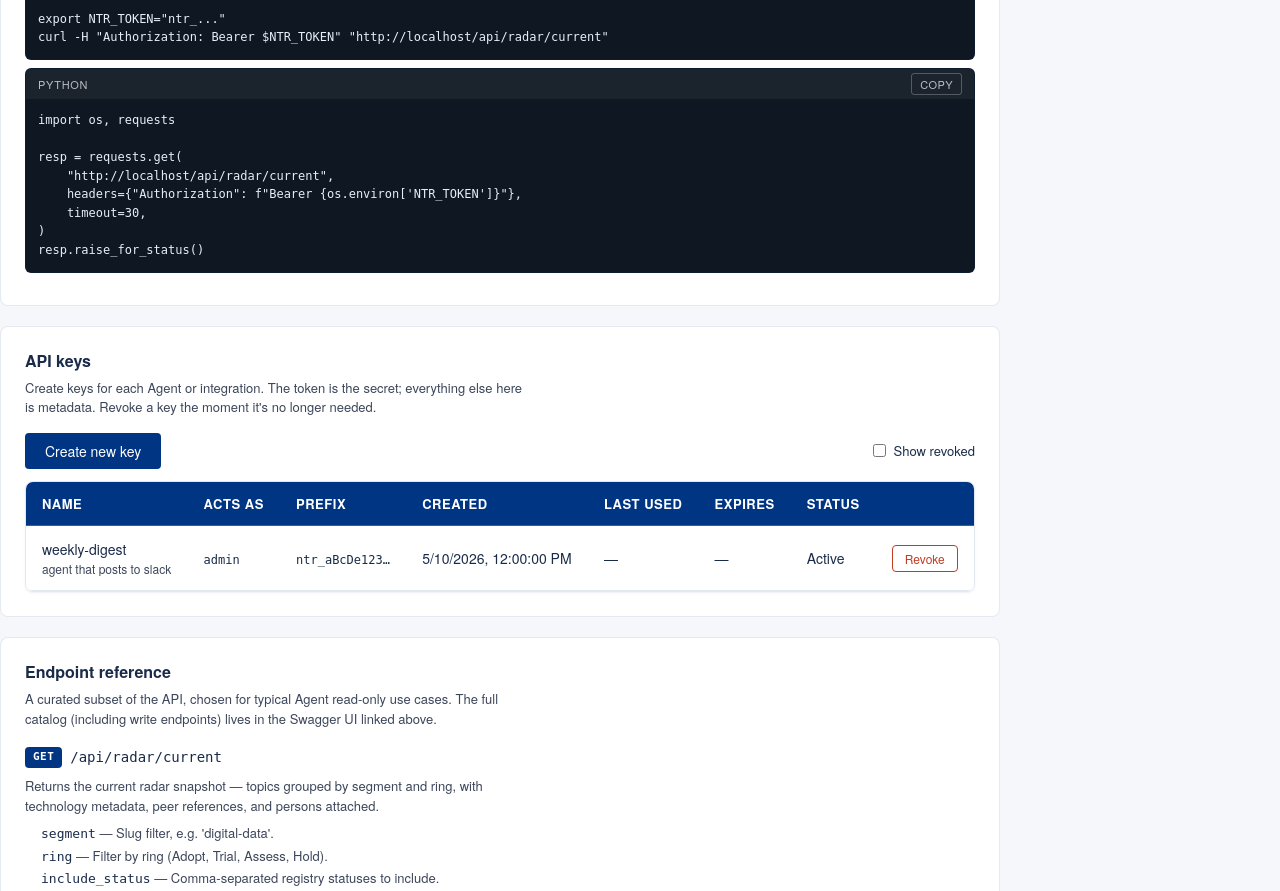
Test: ApiPage › shows the plaintext token once after create and clears it on close
(page scrolled)
Expected: the text "weekly-digest" is shown, [42, 539, 126, 559]
Step 1. Click the button "Create new key" → (93, 451), box [25, 433, 161, 469]
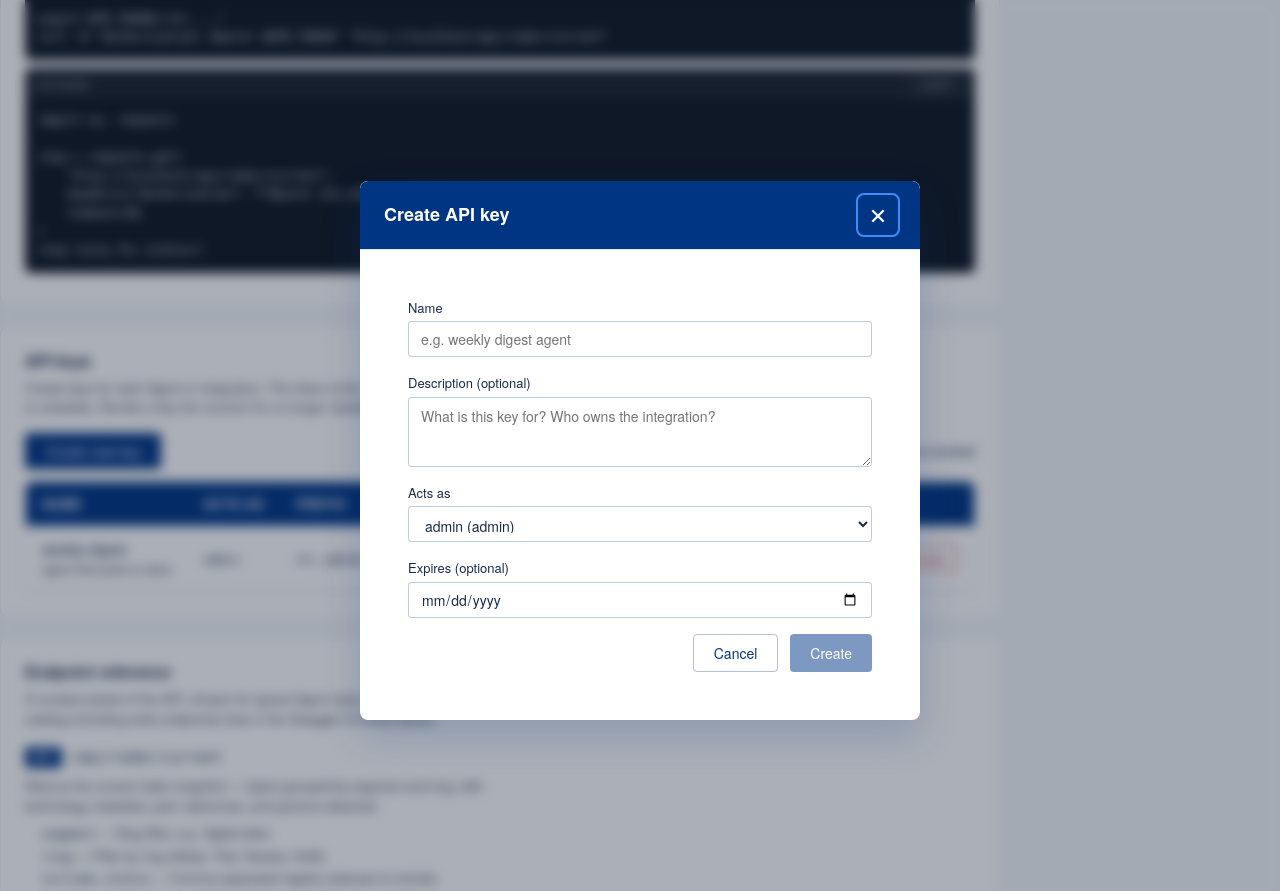
Step 2. Type "fresh-key" into the field labelled "Name" → (640, 339), box [408, 321, 872, 357]
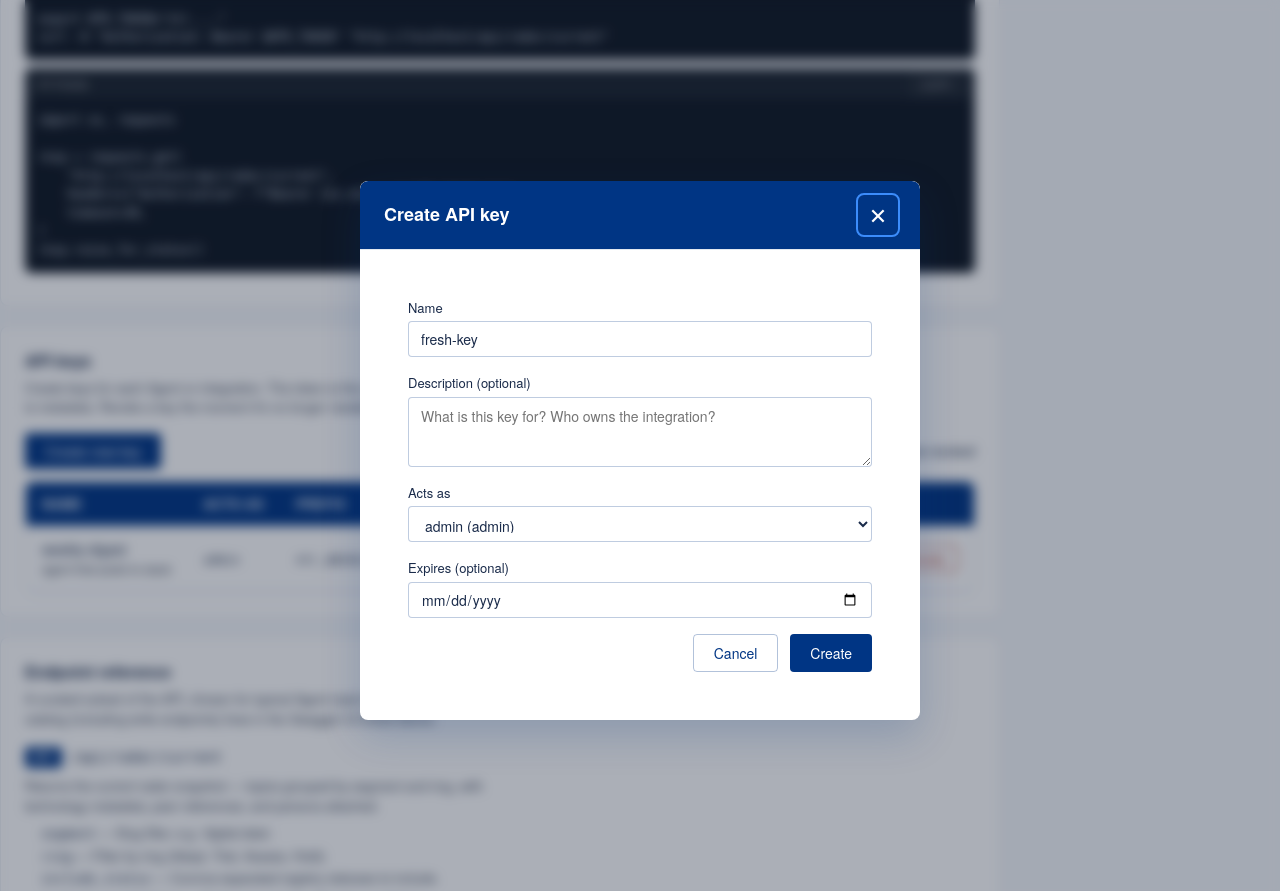
Step 3. Click the button "Create" → (831, 652), box [790, 634, 872, 672]
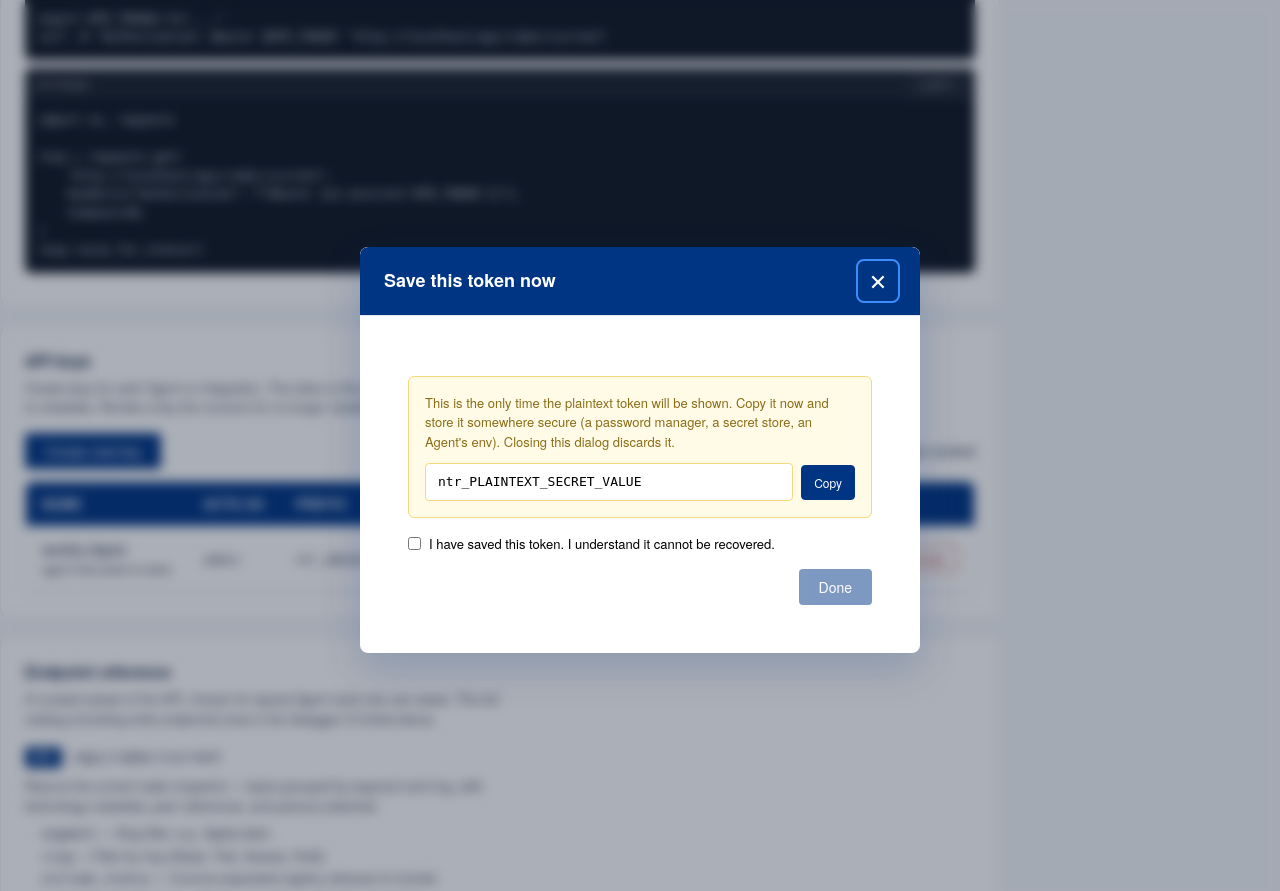
Expected: the heading "Save this token now" is shown, [384, 267, 556, 293]
Expected: the text "ntr_PLAINTEXT_SECRET_VALUE" is shown, [425, 463, 793, 501]
Step 4. Click the checkbox labelled "I have saved this token" → (414, 544), box [408, 537, 421, 550]
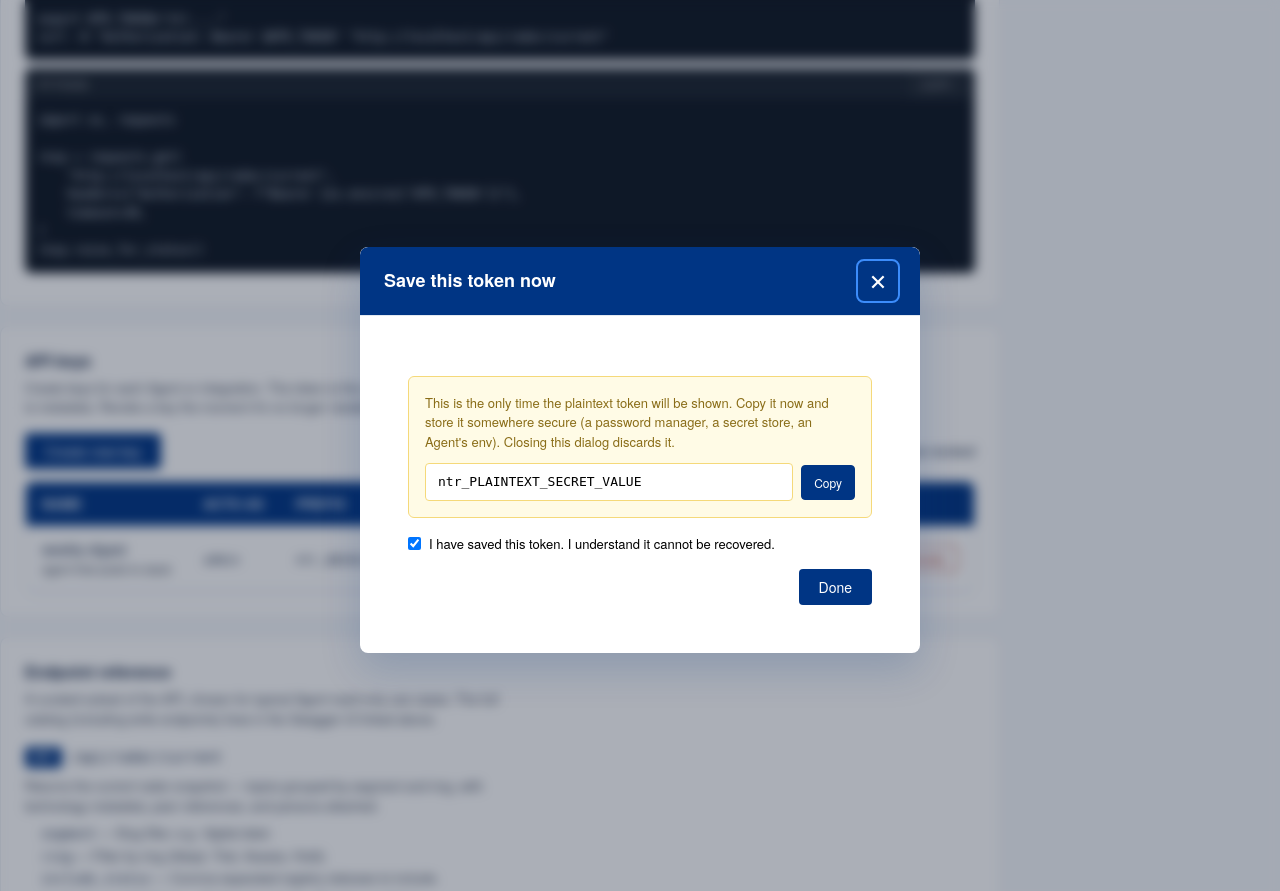
Step 5. Click the button "Done" → (835, 587), box [798, 569, 872, 605]
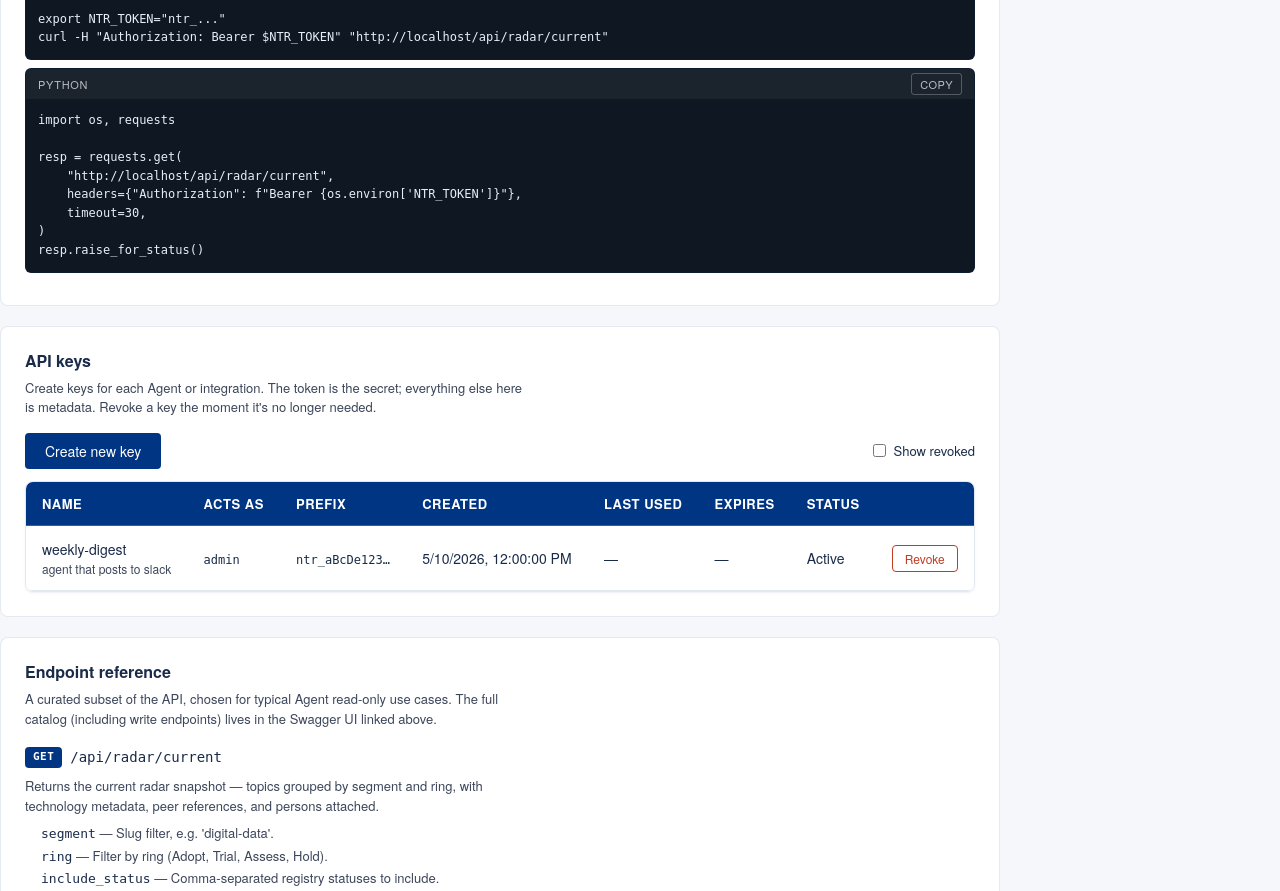
Expected: the text "ntr_PLAINTEXT_SECRET_VALUE" is gone
